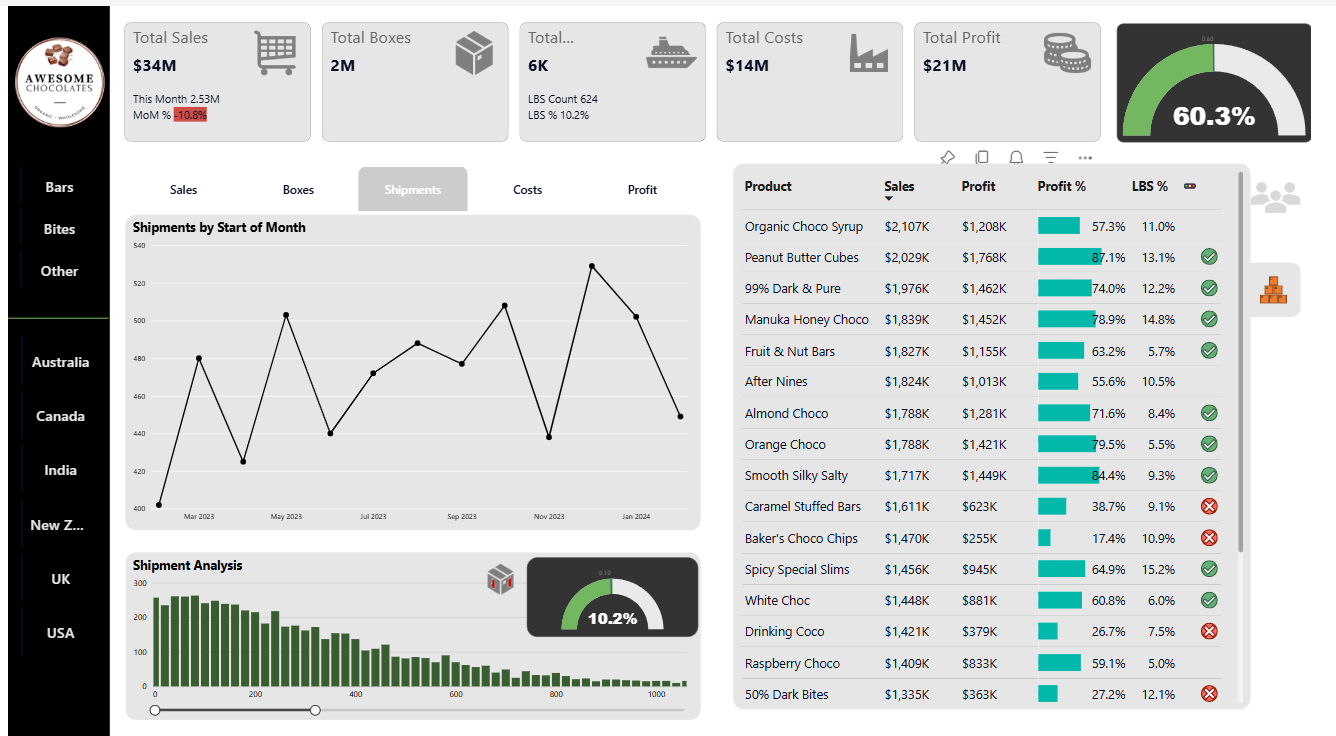

Layout of this report page (visuals, bound fields, positions):
{"tool":"powerbi","page":{"name":"Sales Report","canvas":[1920,1080],"ordinal":2},"visuals":[{"type":"shape","box":[0,0,150,1080],"z":0},{"type":"cardVisual","fields":{"Data":["_Measures.Total Sales","_Measures.Total Boxes","_Measures.Total Shipments","_Measures.Total Costs","_Measures.Total Profit"]},"box":[172,24,1440,176],"z":1000},{"type":"gauge","fields":{"Y":["_Measures.Profit %"]},"box":[1632.8,26,287.6,175.2],"z":2000},{"type":"image","box":[6,26,142,174],"z":3000},{"type":"lineChart","fields":{"Y":["_Measures.Total Shipments"],"Category":["calendar.Start of Month"]},"box":[172.5,307.5,847.5,465],"z":4000},{"type":"advancedSlicerVisual","fields":{"Values":["Measure Selector.Measure Selector"]},"box":[172.5,232.5,847.5,75],"z":5000},{"type":"columnChart","title":"Shipment Analysis","fields":{"Category":["shipments.Boxes (bins)"],"Y":["_Measures.Total Shipments"]},"box":[172.5,805,847.5,247.5],"z":6000},{"type":"gauge","fields":{"Y":["_Measures.LBS %"]},"box":[765,812.5,252.5,117.5],"z":7000},{"type":"image","box":[687.5,812.5,77.5,65],"z":8000},{"type":"tableEx","title":"Product Details","fields":{"Values":["products.Product","_Measures.Total Sales","_Measures.Total Profit","_Measures.Profit %","_Measures.LBS %","_Measures.Profit Target Indicator"]},"box":[1068,232,762,804],"z":10000},{"type":"image","title":"Icon1_dull","box":[1813.3,236.7,106.7,93.3],"z":11000},{"type":"advancedSlicerVisual","fields":{"Values":["products.Category"]},"box":[12,232,126,186],"z":13000},{"type":"advancedSlicerVisual","fields":{"Values":["locations.Geo"]},"box":[14,482,126,480],"z":14000},{"type":"shape","box":[0,418,148,84],"z":15000},{"type":"image","title":"icon2_highlight","box":[1820,328,90,180],"z":17000}]}

Visuals, with their boxes on the page's 1920x1080 design canvas (x1, y1, x2, y2). These are canvas units, not pixel positions in the 1336x736 screenshot, which may show the page scaled, cropped or inside an application window:
shape: [x1=0, y1=0, x2=150, y2=1080]
cardVisual - _Measures.Total Sales x _Measures.Total Boxes: [x1=172, y1=24, x2=1612, y2=200]
gauge - _Measures.Profit %: [x1=1633, y1=26, x2=1920, y2=201]
image: [x1=6, y1=26, x2=148, y2=200]
lineChart - _Measures.Total Shipments x calendar.Start of Month: [x1=172, y1=308, x2=1020, y2=772]
advancedSlicerVisual - Measure Selector.Measure Selector: [x1=172, y1=232, x2=1020, y2=308]
"Shipment Analysis" columnChart: [x1=172, y1=805, x2=1020, y2=1052]
gauge - _Measures.LBS %: [x1=765, y1=812, x2=1018, y2=930]
image: [x1=688, y1=812, x2=765, y2=878]
"Product Details" tableEx: [x1=1068, y1=232, x2=1830, y2=1036]
"Icon1_dull" image: [x1=1813, y1=237, x2=1920, y2=330]
advancedSlicerVisual - products.Category: [x1=12, y1=232, x2=138, y2=418]
advancedSlicerVisual - locations.Geo: [x1=14, y1=482, x2=140, y2=962]
shape: [x1=0, y1=418, x2=148, y2=502]
"icon2_highlight" image: [x1=1820, y1=328, x2=1910, y2=508]
